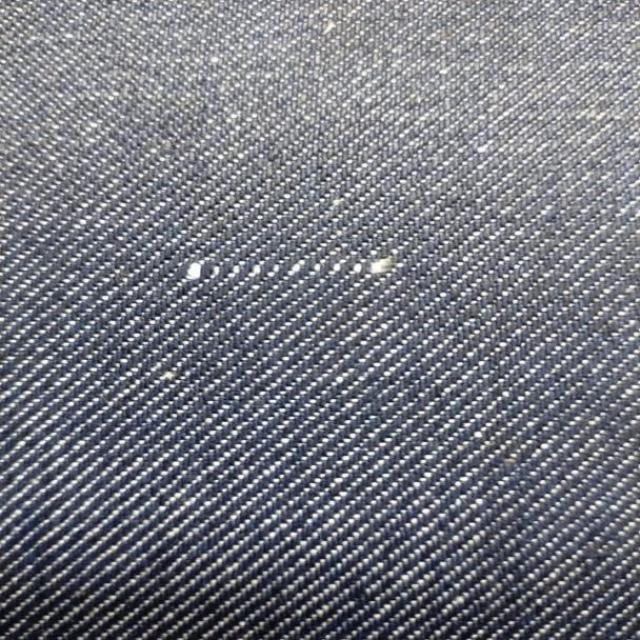pulled_or_thick_thread: (179, 260, 408, 277)
